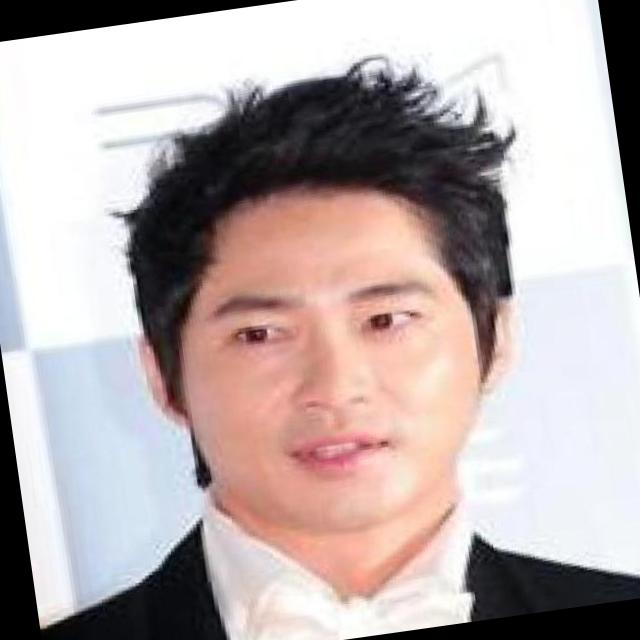bareface: (172, 142, 545, 546)
